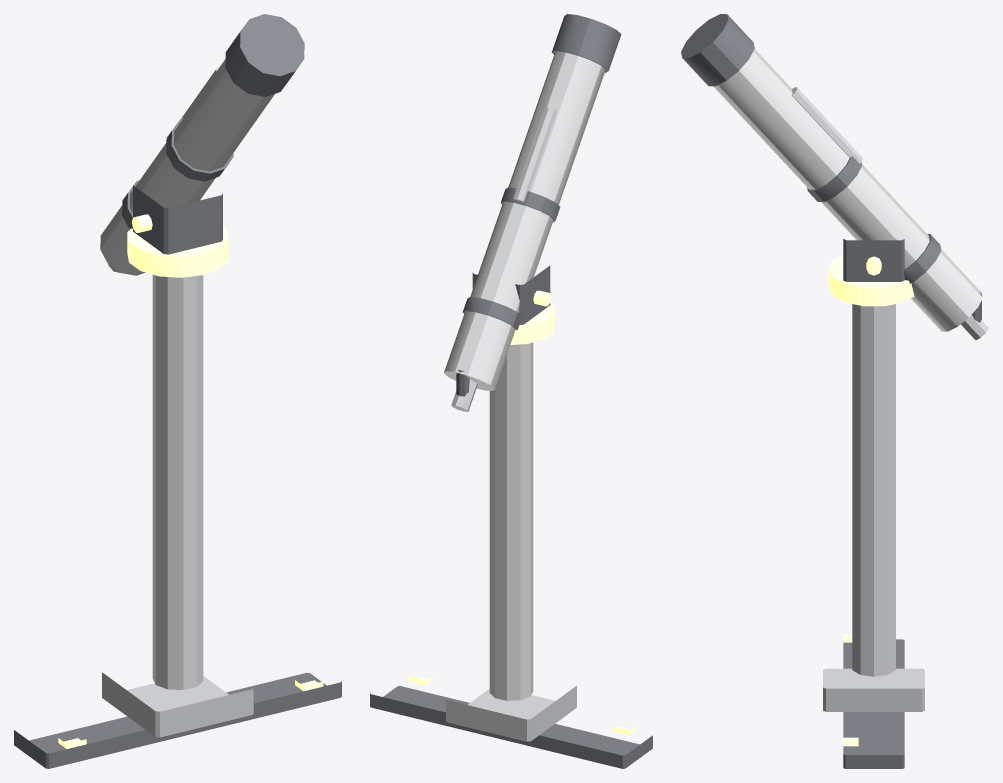
Rendered from iter_04.glb.
3 renders of one model, left to right at view 1: azimuth 30°, elevation 25°; view 2: azimuth 150°, elevation 25°; view 3: azimuth 270°, elevation 25°, orthographic. The views are drawn at different scales.
Parts seen in each view (by area): view 1: Column, Tube, Floor_Rail, Column_Foot, Dew_Shield, Mount_Head, Counter_Ring, Tube_Rings; view 2: Tube, Column, Floor_Rail, Column_Foot, Dew_Shield, Tube_Rings, Finder, Mount_Head, Counter_Ring; view 3: Column, Tube, Column_Foot, Floor_Rail, Dew_Shield, Mount_Head, Counter_Ring, Tube_Rings, Finder.
Part boxes in pixels (<box>): Column: <box>152,274,203,689</box>; Tube: <box>100,59,274,275</box>; Floor_Rail: <box>14,672,341,768</box>; Column_Foot: <box>102,672,253,737</box>; Dew_Shield: <box>225,14,304,96</box>; Mount_Head: <box>133,185,222,254</box>; Counter_Ring: <box>127,226,228,277</box>; Tube_Rings: <box>122,117,233,229</box>; Tube: <box>444,51,605,390</box>; Column: <box>489,342,533,700</box>; Floor_Rail: <box>370,686,652,768</box>; Column_Foot: <box>446,685,576,741</box>; Dew_Shield: <box>551,14,621,72</box>; Tube_Rings: <box>462,187,560,330</box>; Finder: <box>513,107,556,201</box>; Mount_Head: <box>472,265,550,324</box>; Counter_Ring: <box>510,301,555,344</box>; Column: <box>852,304,895,676</box>; Tube: <box>713,49,982,331</box>; Column_Foot: <box>823,668,924,711</box>; Floor_Rail: <box>843,639,904,768</box>; Dew_Shield: <box>681,14,754,86</box>; Mount_Head: <box>843,239,904,281</box>; Counter_Ring: <box>828,255,914,306</box>; Tube_Rings: <box>807,156,941,283</box>; Finder: <box>792,87,863,163</box>.
Bounding box in the file's own units: 0.6 × 1.48 × 0.6027.
